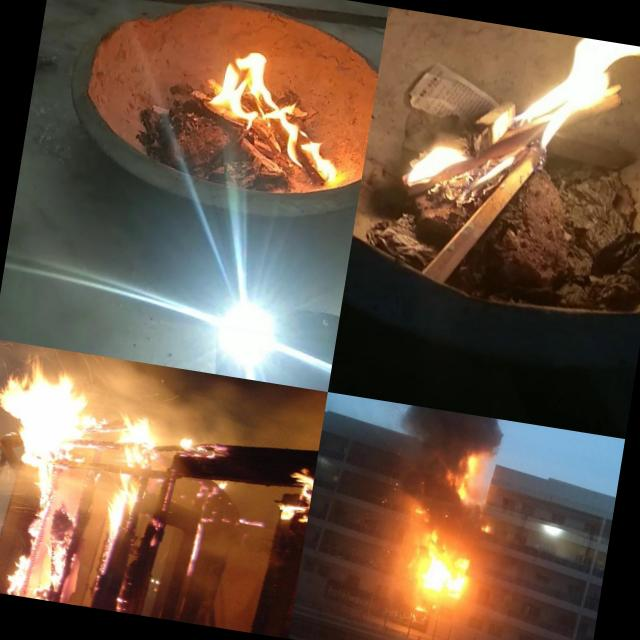fire: (396, 13, 640, 241), (195, 34, 356, 188), (0, 364, 180, 493), (5, 471, 144, 613), (406, 531, 476, 603), (167, 433, 236, 506), (271, 461, 316, 536), (452, 447, 485, 503), (182, 519, 208, 590), (477, 521, 496, 540)
smoke: (159, 367, 328, 455), (380, 403, 470, 521), (1, 342, 169, 391), (466, 415, 542, 465)
